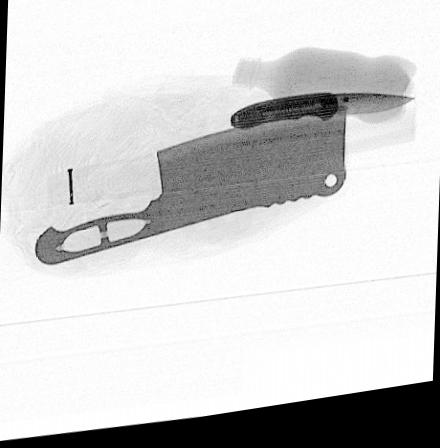Knife: (34, 117, 346, 266), (230, 102, 415, 139)
